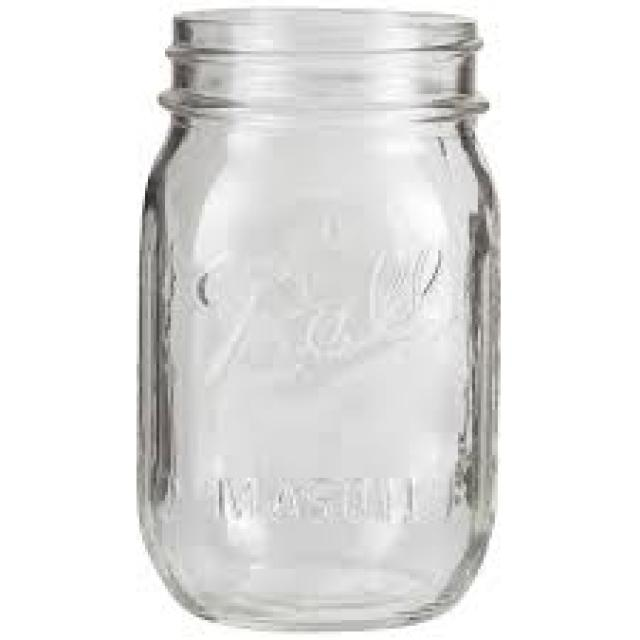Anorganik: (134, 6, 498, 628)
